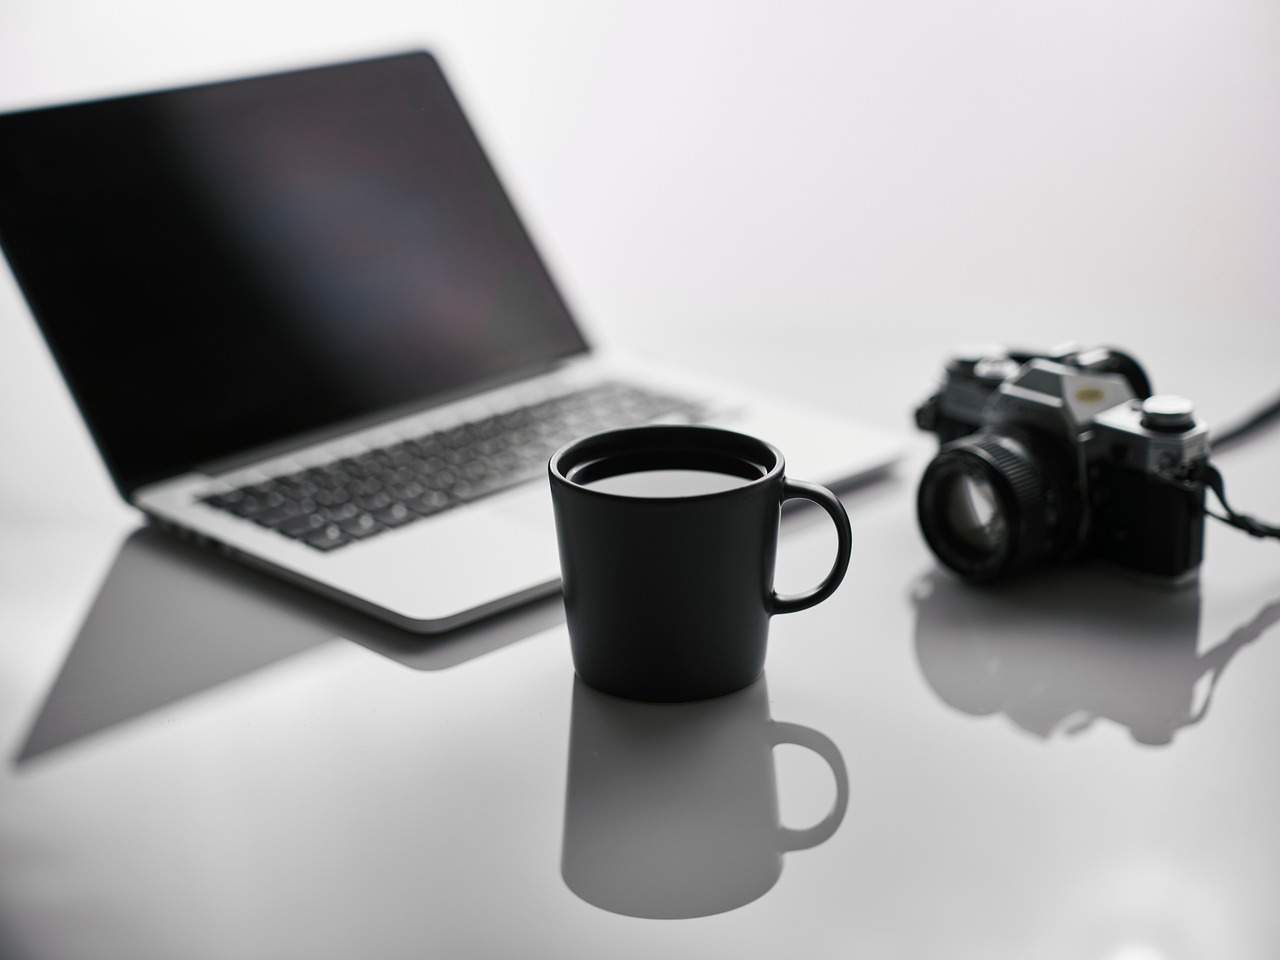mug: (503, 425, 862, 717)
